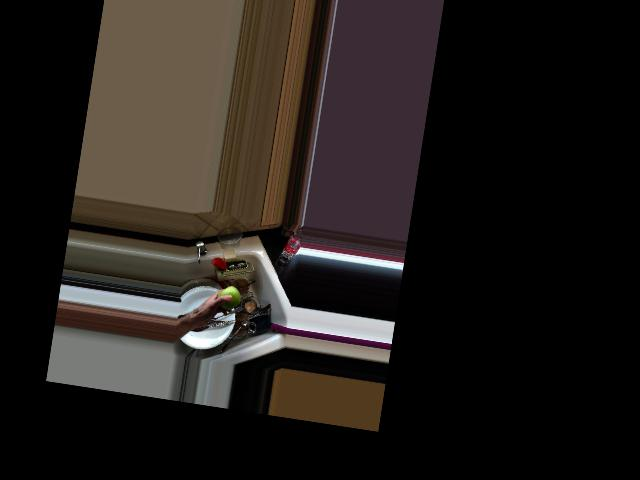apple: (213, 283, 242, 313)
